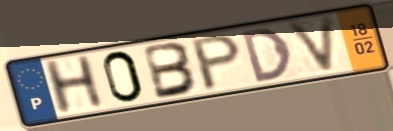0: (100, 49, 147, 105)
B: (141, 40, 201, 102)
D: (238, 26, 294, 85)
H: (40, 52, 108, 117)
P: (189, 32, 244, 94)
V: (283, 11, 339, 78)
